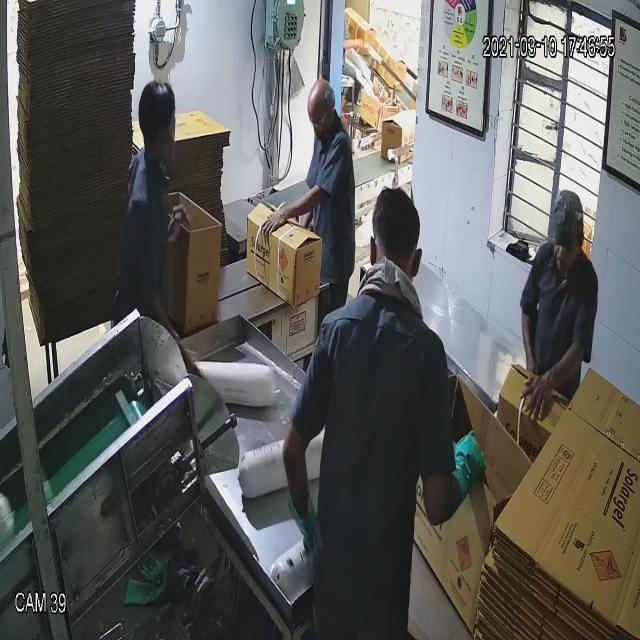No_Gloves: (54, 65, 555, 466)
